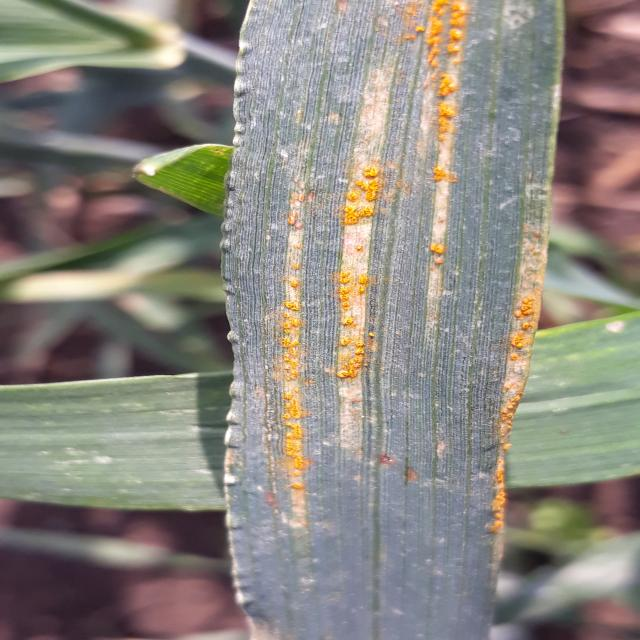yellow_rust: (204, 2, 590, 604)
